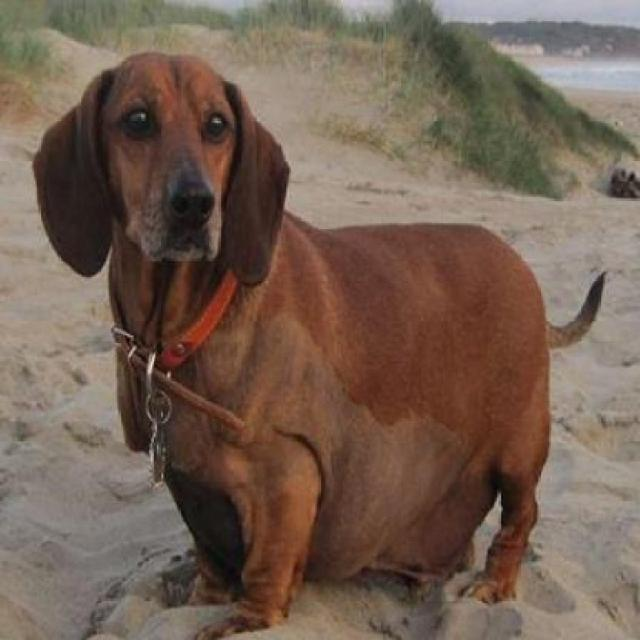Dog: (32, 51, 610, 638)
